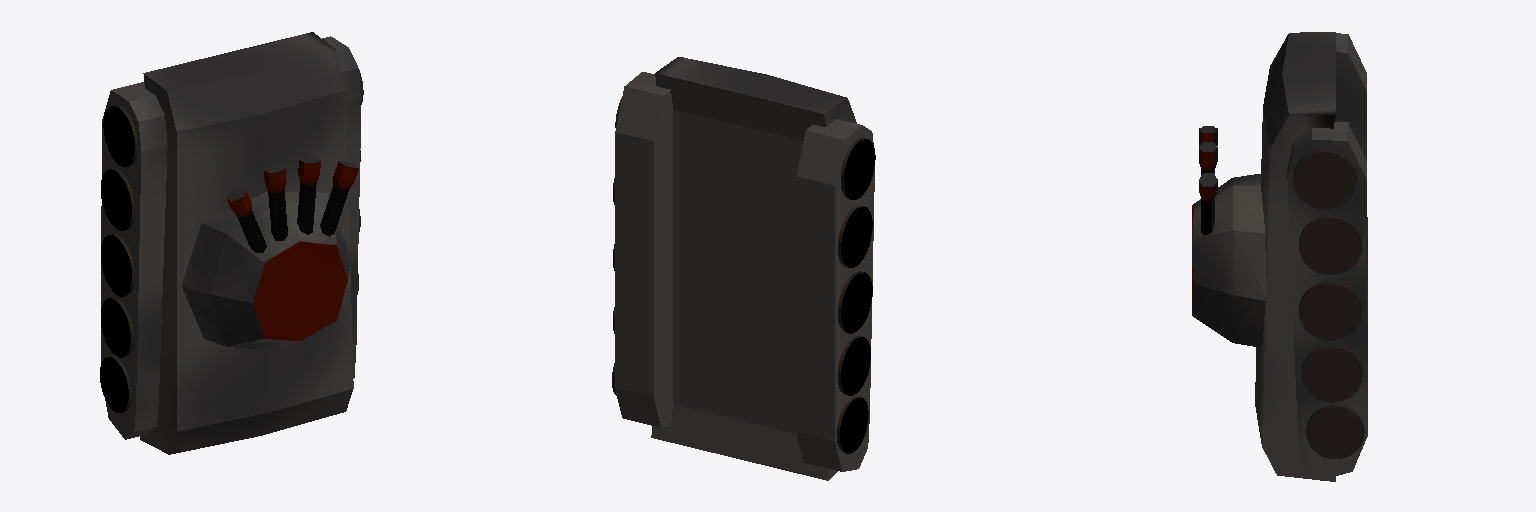
The picture shows the model from 3 angles: view 1: azimuth 30°, elevation 25°; view 2: azimuth 150°, elevation 25°; view 3: azimuth 270°, elevation 25°; orthographic projection.
Parts seen in each view (by area): view 1: body1_Cube.004, head_1_Cube, body.001_Cube.006, body2_Cube.010, body.003_Cylinder.008, body4_Cylinder.007, body.002_Cylinder.006, body.004_Cylinder.009, body_Cylinder.010, head2.003_Cube.007, head2.001_Cube.003, head2.000_Cube.008 (+1 smaller); view 2: body1_Cube.004, body2_Cube.010, body.001_Cube.006, body.003_Cylinder.008, body4_Cylinder.007, body.002_Cylinder.006, body.004_Cylinder.009, body_Cylinder.010; view 3: body1_Cube.004, body2_Cube.010, head_1_Cube, body.007_Cylinder.003, body.005_Cylinder.005, body.006_Cylinder.004, body.001_Cube.006, body.008_Cylinder.002, body.009_Cylinder.001, head2.001_Cube.003, head2.003_Cube.007.
Boxes of the visible parts, <box> form: body1_Cube.004: <box>140,32,353,454</box>; head_1_Cube: <box>182,192,350,350</box>; body.001_Cube.006: <box>101,82,167,439</box>; body2_Cube.010: <box>322,36,361,378</box>; body.003_Cylinder.008: <box>101,234,135,296</box>; body4_Cylinder.007: <box>101,168,135,230</box>; body.002_Cylinder.006: <box>103,105,137,167</box>; body.004_Cylinder.009: <box>101,297,133,357</box>; body_Cylinder.010: <box>100,356,131,412</box>; head2.003_Cube.007: <box>297,156,320,234</box>; head2.001_Cube.003: <box>320,161,358,236</box>; head2.000_Cube.008: <box>264,164,287,240</box>; body1_Cube.004: <box>651,57,856,480</box>; body2_Cube.010: <box>615,72,672,427</box>; body.001_Cube.006: <box>796,119,874,471</box>; body.003_Cylinder.008: <box>838,271,872,333</box>; body4_Cylinder.007: <box>838,205,872,267</box>; body.002_Cylinder.006: <box>841,138,875,199</box>; body.004_Cylinder.009: <box>838,336,870,395</box>; body_Cylinder.010: <box>837,396,868,453</box>; body1_Cube.004: <box>1255,32,1335,481</box>; body2_Cube.010: <box>1287,122,1367,480</box>; head_1_Cube: <box>1192,174,1265,347</box>; body.007_Cylinder.003: <box>1299,281,1361,340</box>; body.005_Cylinder.005: <box>1293,150,1356,209</box>; body.006_Cylinder.004: <box>1299,215,1361,274</box>; body.001_Cube.006: <box>1335,33,1367,304</box>; body.008_Cylinder.002: <box>1302,345,1362,402</box>; body.009_Cylinder.001: <box>1306,404,1364,458</box>; head2.001_Cube.003: <box>1199,173,1217,235</box>; head2.003_Cube.007: <box>1199,142,1217,174</box>.
Size of the model in its own units: 68.06 by 104 by 45.42.
Materials: 3 (1 with a texture image).